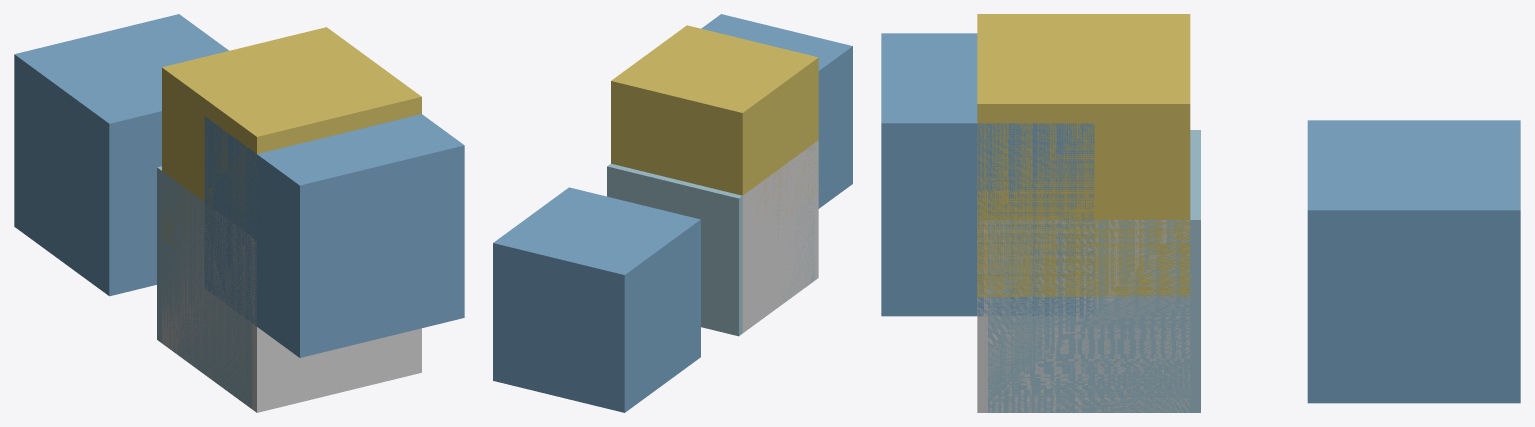
File: bld_shop_blue.glb
The picture shows the model from 3 angles, left to right: view 1: azimuth 30°, elevation 25°; view 2: azimuth 150°, elevation 25°; view 3: azimuth 270°, elevation 25°; orthographic projection. The views are drawn at different scales.
Parts seen in each view (by area): view 1: world; view 2: world; view 3: world.
Boxes of the visible parts, bbox=[...] form: world: bbox=[14, 14, 464, 412]; world: bbox=[493, 14, 852, 412]; world: bbox=[881, 14, 1520, 412].
Size of the model in its own units: 1 by 1.6 by 3.
